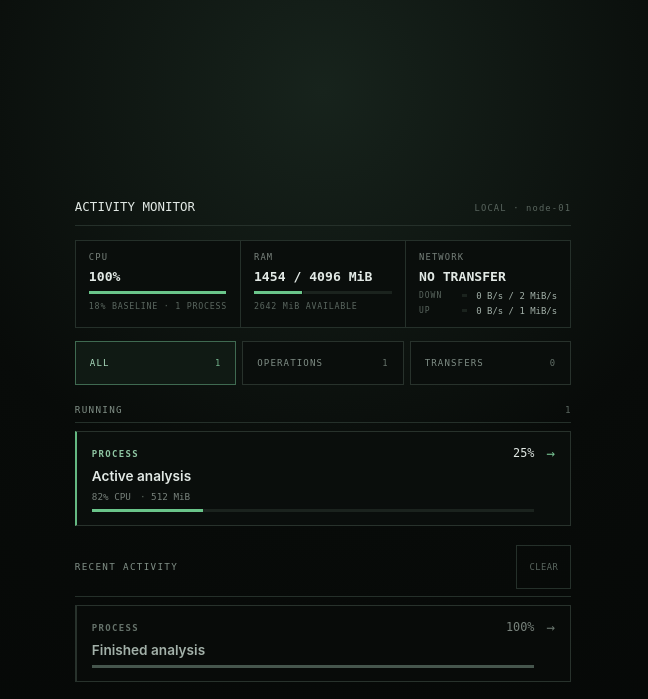
Test: Activity Monitor: Recent Activity › confirms before clearing history while running work remains visible
Step 1. Click the button with aria-label "Clear recent activity" → click(544, 566), box [516,544,571,588]
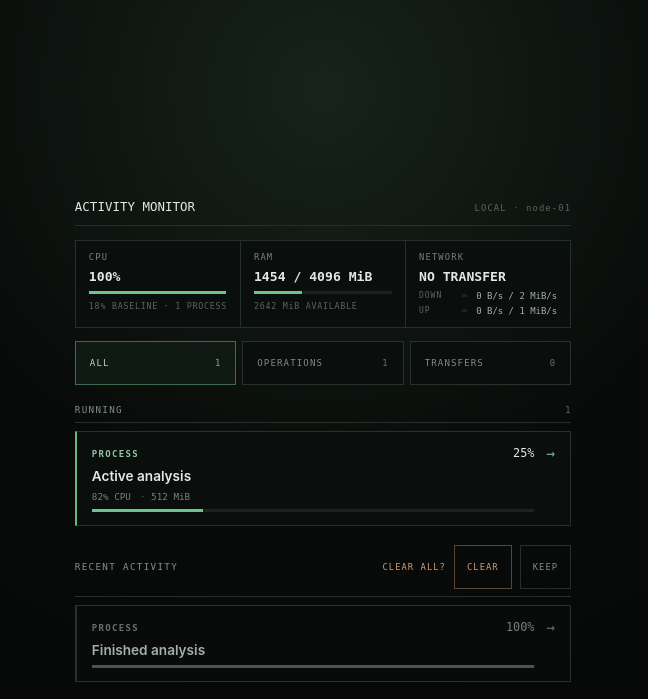
Expected: the text "Finished analysis" is shown, [92,642,205,658]
// Declining keeps the list and puts the single CLEAR control back.
Step 2. Click the button "KEEP" → click(545, 566), box [520,544,571,588]
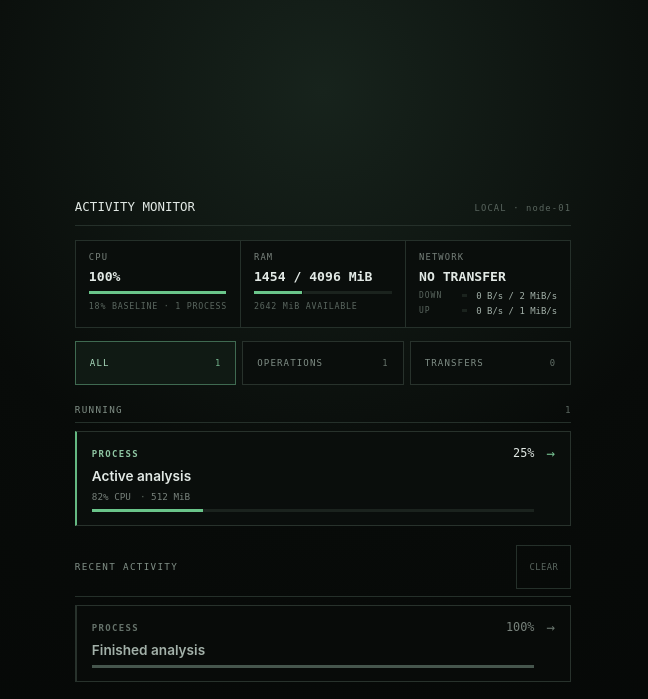
Expected: the text "Finished analysis" is shown, [92,642,205,658]
Expected: the button with aria-label "Clear recent activity" is shown
Step 3. Click the button with aria-label "Clear recent activity" → click(544, 566), box [516,544,571,588]
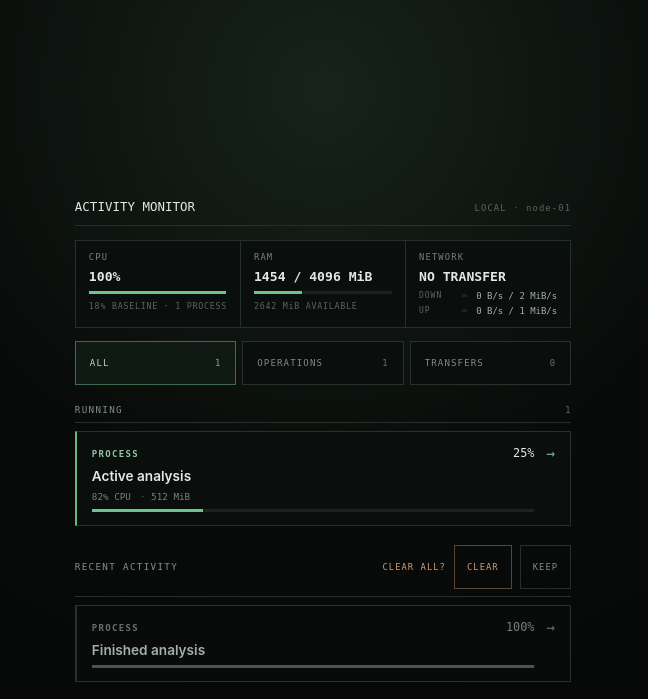
Step 4. Click the button "CLEAR" → click(483, 566), box [454,544,512,588]
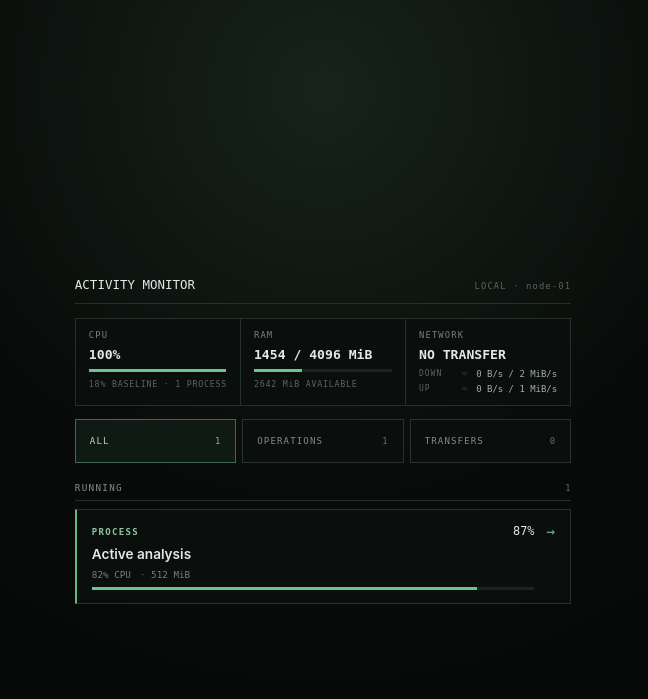
Expected: the text "Active analysis" is shown, [92,546,191,562]
Expected: the button "Finished analysis" is gone
